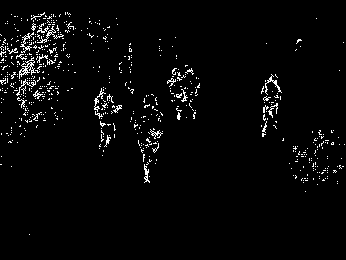person: (132, 93, 165, 185), (260, 69, 291, 143), (91, 87, 123, 156), (184, 63, 207, 125), (167, 67, 185, 127)
